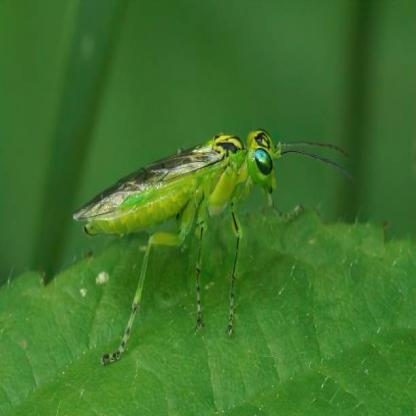sawfly: (66, 113, 356, 362)
